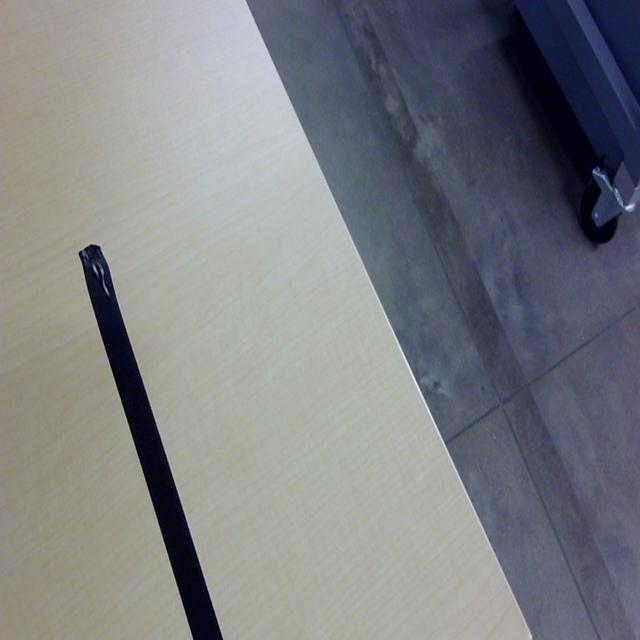tape: (78, 242, 221, 640)
